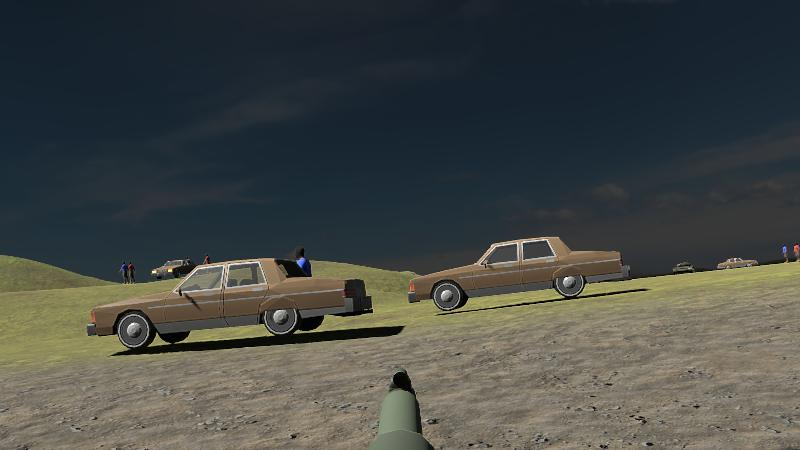car: (86, 258, 373, 350), (410, 234, 632, 314), (151, 258, 196, 280)
